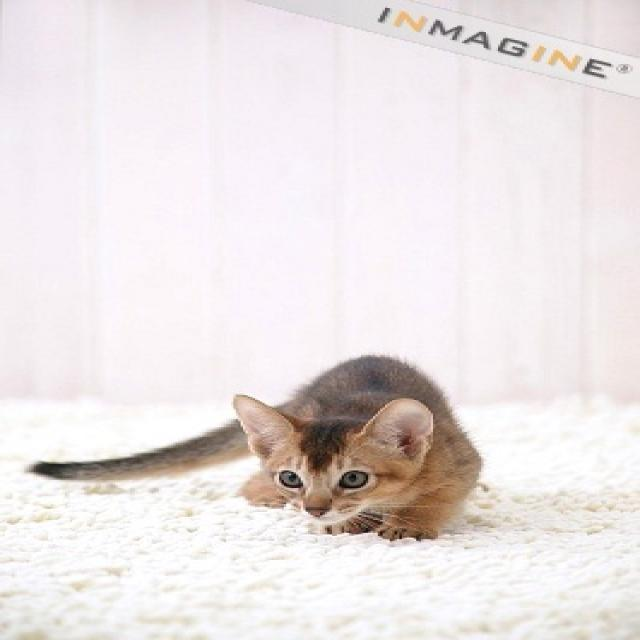Abyssinian: (229, 392, 428, 523)
